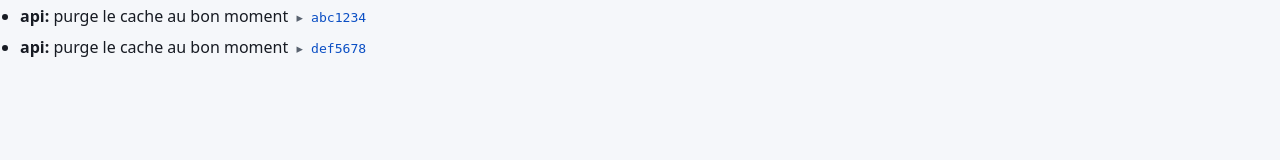
Test: CommitList › unfolds one commit without unfolding its neighbours
The width and height of the screenshot is (1280, 160).
Click the button "▸" next to "abc1234": (300, 18) left=292, top=12, right=307, bottom=25
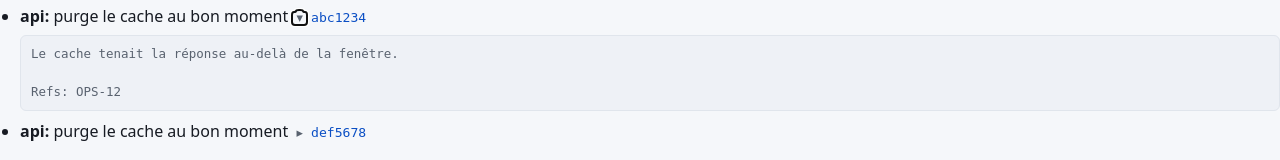
Expected: the text "Le cache tenait la réponse" is shown once, left=20, top=35, right=1279, bottom=111
